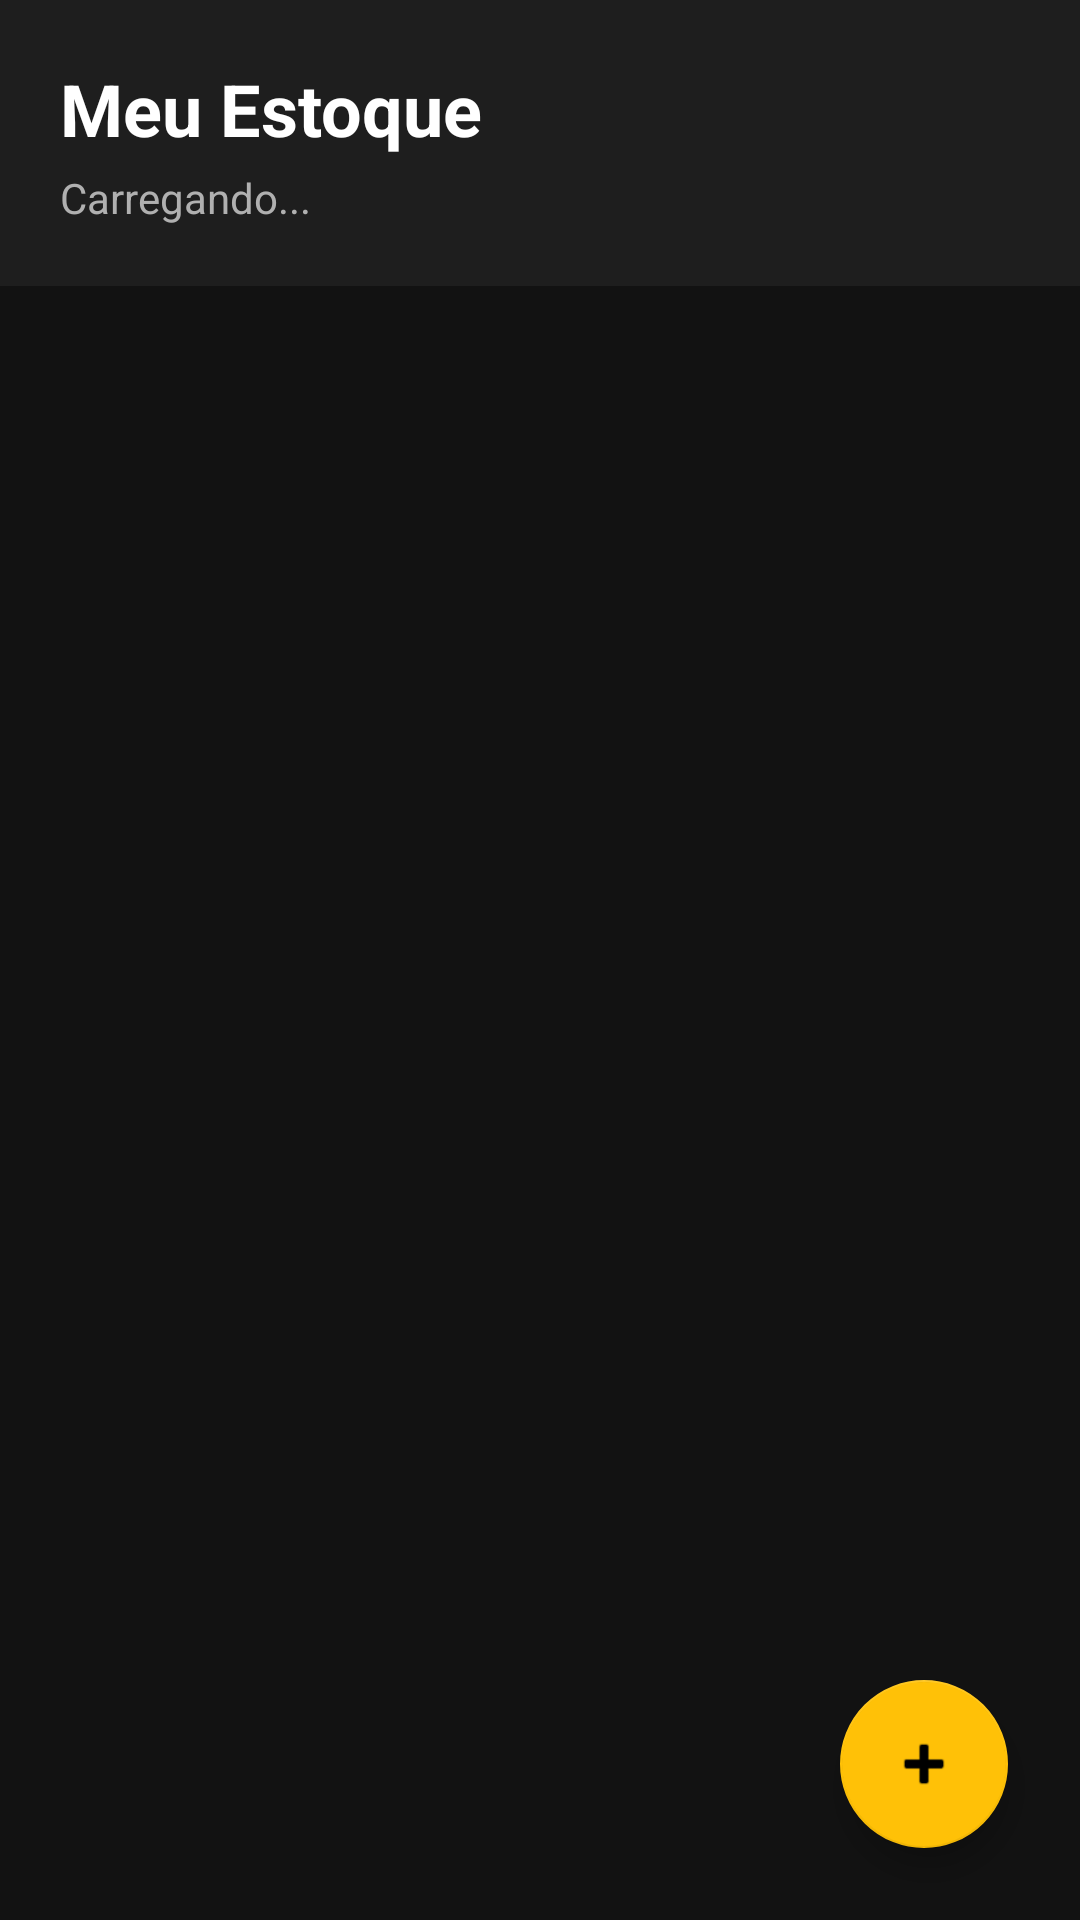

Where to tap for icons on this 1080 × 1920 app screen, as point (x, y):
Adicionar Item: point (924, 1764)
